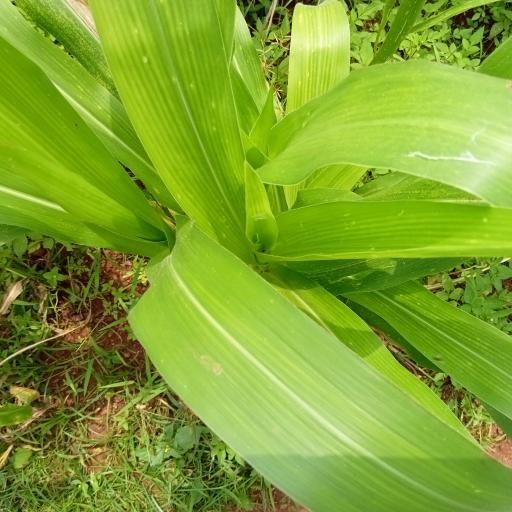Corn_Brown_Spots: (130, 220, 512, 512), (128, 0, 512, 213)
